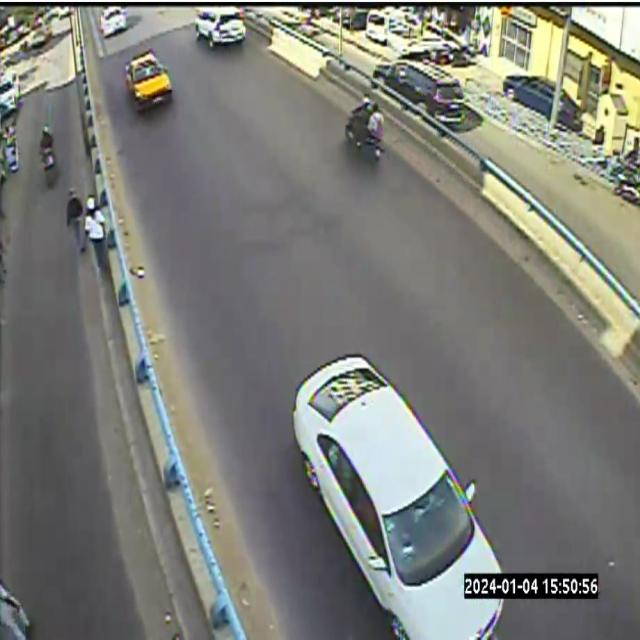car: (292, 357, 505, 638), (373, 59, 466, 125), (125, 50, 172, 109), (195, 6, 246, 48)
